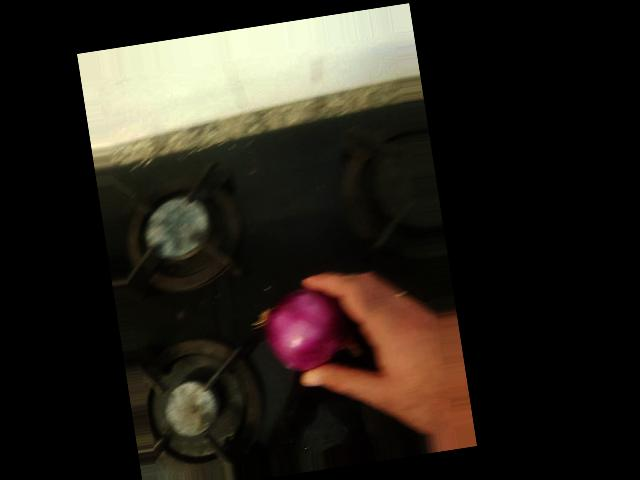onion: (260, 283, 357, 379)
